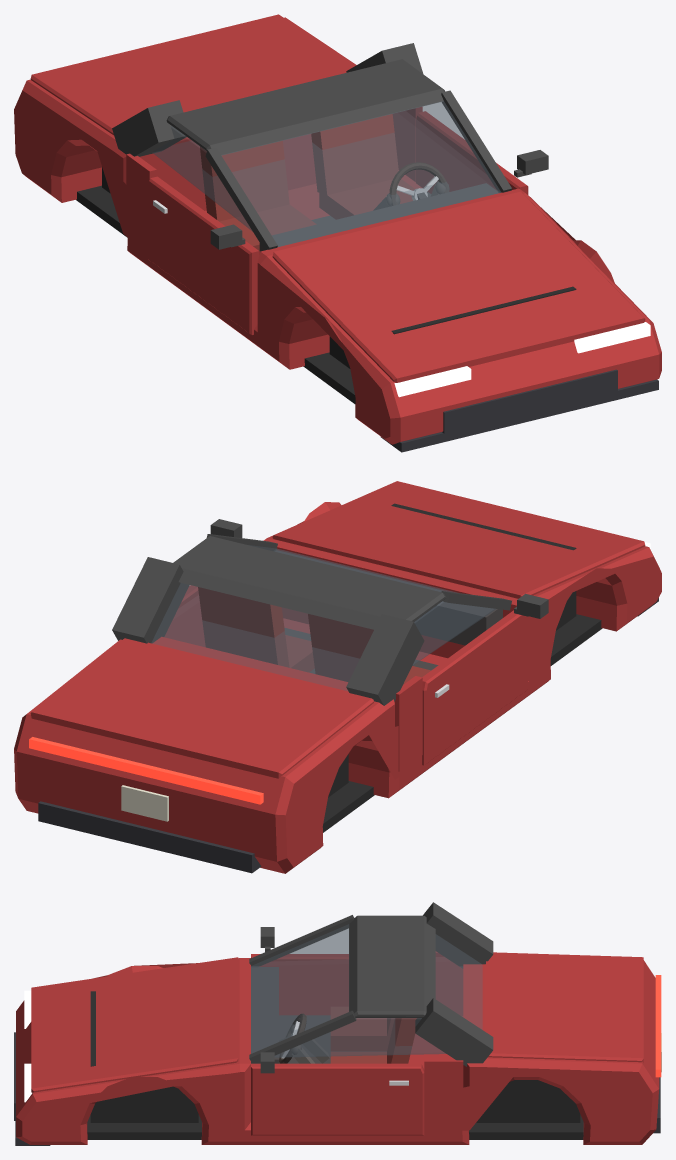
The model's file is car_coupe.glb.
The picture shows the model from 3 angles, top to bottom: view 1: azimuth 30°, elevation 25°; view 2: azimuth 150°, elevation 25°; view 3: azimuth 270°, elevation 25°; orthographic projection. The views are drawn at different scales.
Parts seen in each view (by area): view 1: Hood, Body, Cabin_Glass, Trunk, Roof, Door_R, Seat_L, Pillars, Seat_R, Grille, Door_L, Quarters (+9 smaller); view 2: Body, Trunk, Hood, Cabin_Glass, Roof, Pillars, Door_R, Seat_L, Diffuser, Seat_R, Taillight_Bar, Dashboard (+6 smaller); view 3: Body, Hood, Trunk, Cabin_Glass, Door_L, Roof, Pillars, Door_R, Quarters, Underbody, WheelWell_F, WheelWell_R (+5 smaller).
Part boxes in pixels (left/top/right/bottom): Hood: left=272, top=191, right=645, bottom=382; Body: left=14, top=17, right=661, bottom=444; Cabin_Glass: left=152, top=101, right=500, bottom=246; Trunk: left=30, top=14, right=355, bottom=135; Roof: left=166, top=59, right=445, bottom=155; Door_R: left=147, top=176, right=259, bottom=334; Seat_L: left=311, top=114, right=414, bottom=219; Pillars: left=112, top=43, right=511, bottom=250; Seat_R: left=200, top=141, right=316, bottom=250; Grille: left=442, top=369, right=617, bottom=433; Door_L: left=416, top=111, right=528, bottom=194; Quarters: left=126, top=107, right=422, bottom=246; Body: left=14, top=502, right=661, bottom=873; Trunk: left=30, top=638, right=373, bottom=778; Hood: left=272, top=481, right=645, bottom=598; Cabin_Glass: left=151, top=545, right=495, bottom=690; Roof: left=173, top=536, right=446, bottom=629; Pillars: left=112, top=534, right=511, bottom=705; Door_R: left=422, top=610, right=528, bottom=765; Seat_L: left=198, top=587, right=314, bottom=672; Diffuser: left=38, top=801, right=261, bottom=873; Seat_R: left=308, top=614, right=430, bottom=684; Taillight_Bar: left=29, top=737, right=263, bottom=804; Dashboard: left=275, top=550, right=502, bottom=645; Body: left=16, top=958, right=659, bottom=1144; Hood: left=31, top=957, right=238, bottom=1092; Trunk: left=486, top=952, right=643, bottom=1062; Cabin_Glass: left=251, top=924, right=482, bottom=1057; Door_L: left=251, top=1063, right=424, bottom=1135; Roof: left=349, top=915, right=435, bottom=1017; Pillars: left=249, top=902, right=493, bottom=1066; Door_R: left=251, top=954, right=348, bottom=1014; Quarters: left=424, top=951, right=463, bottom=1126; Underbody: left=87, top=1114, right=583, bottom=1139; WheelWell_F: left=90, top=991, right=198, bottom=1122; WheelWell_R: left=476, top=1080, right=580, bottom=1122.
Size of the model in its own units: 2.28 by 1.08 by 4.63.
